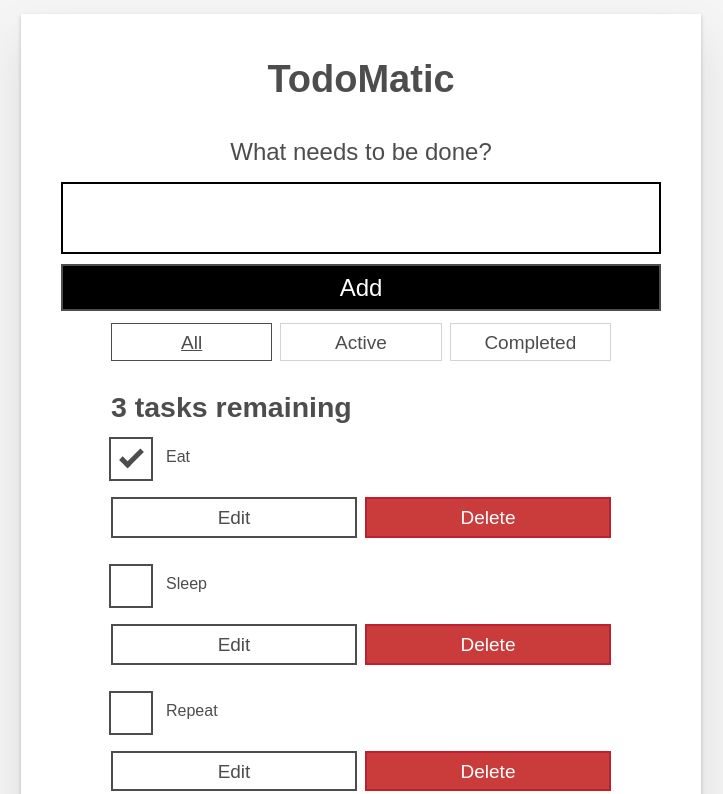
should check the functionality of todomatic › should be able to filter completed tasks
Click the button with test id "Completed" at (530, 342), box left=450, top=323, right=611, bottom=361
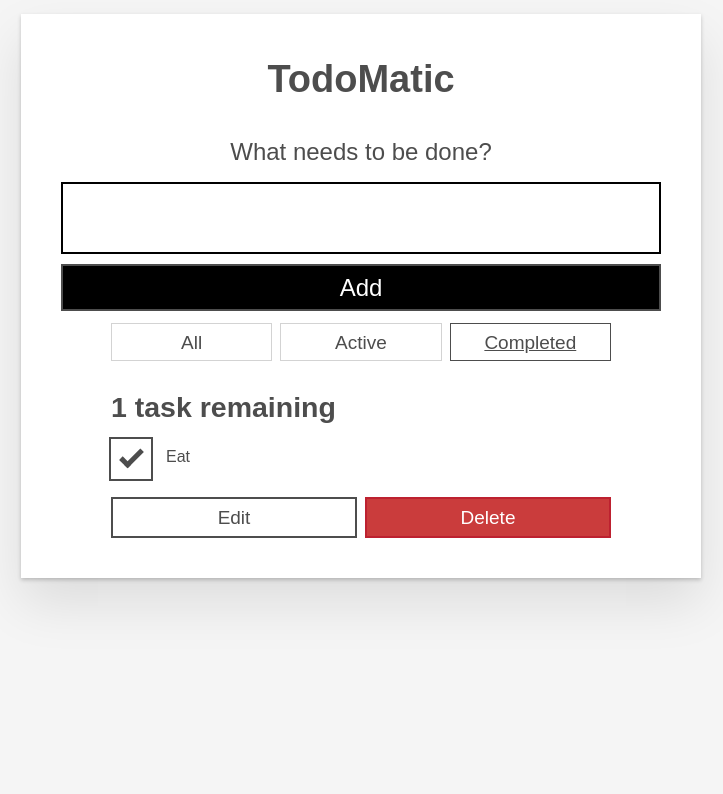
Expected: the number of list items is 1, left=111, top=439, right=611, bottom=538
